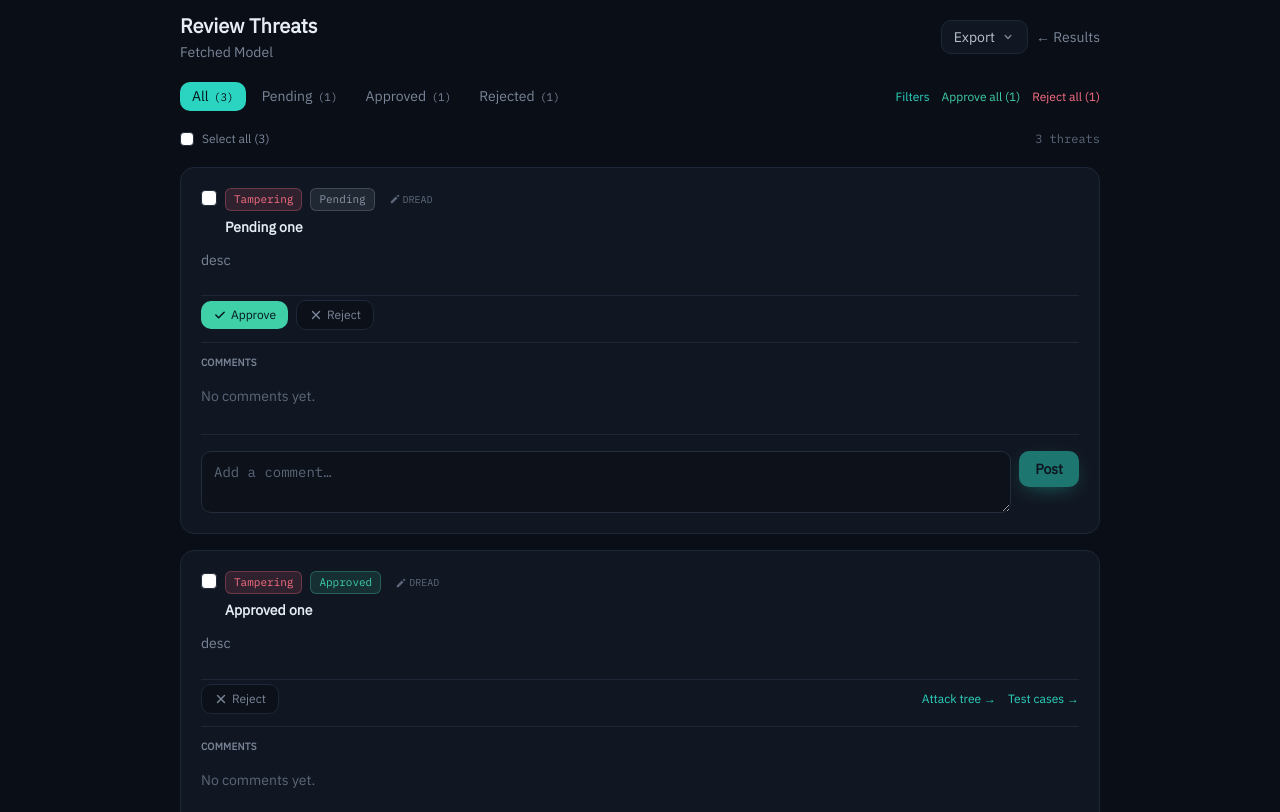
Review — filtering › filters to only pending threats
The width and height of the screenshot is (1280, 812).
expect the heading "Pending one" is shown: met, box [225,218,303,236]
What coordinates should you click on to do the following:
click the button "pending (1)"
I would click on:
 (300, 96)
Its box is [250,82,350,111].
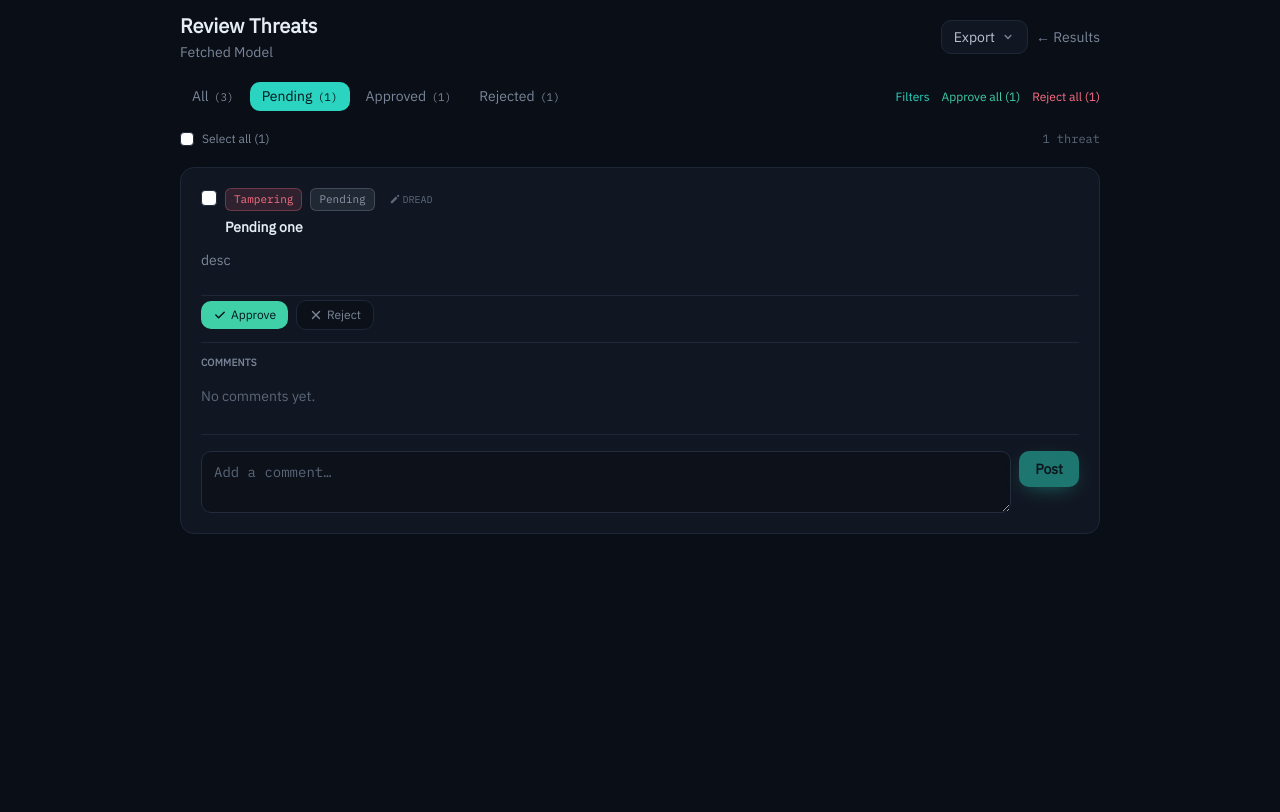
expect the heading "Pending one" is shown: met, box [225,218,303,236]
expect the heading "Approved one" is gone: met
